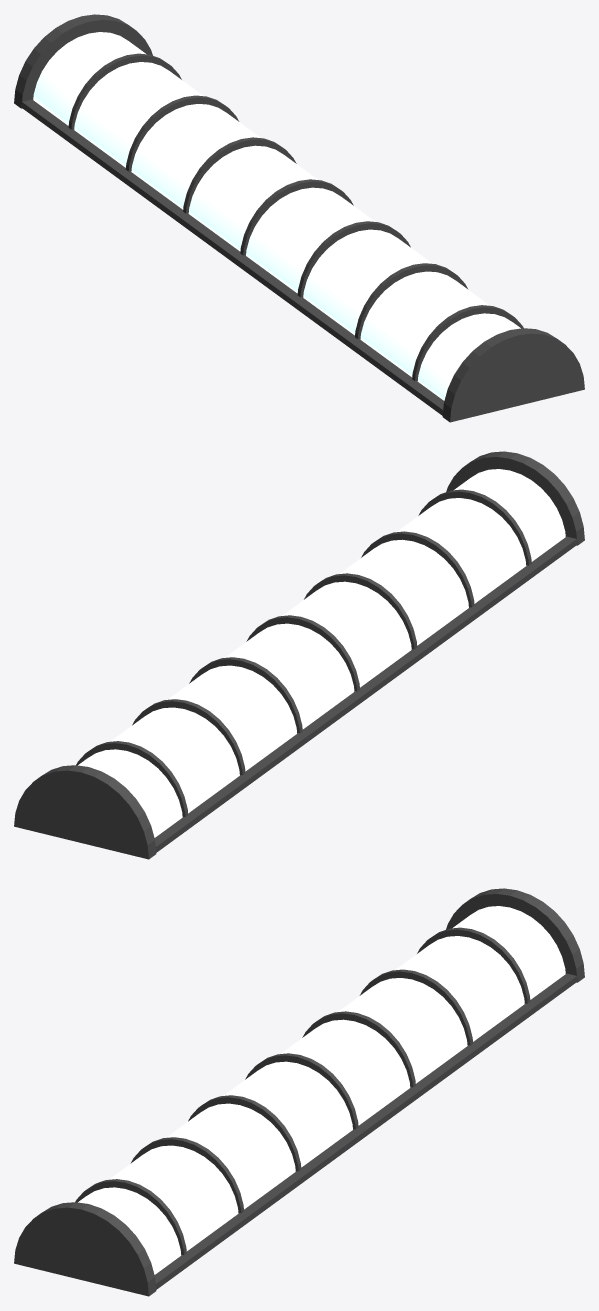
The model's file is lamp.glb.
3 views of the same model, one above another, from view 1: azimuth 30°, elevation 25°; view 2: azimuth 150°, elevation 25°; view 3: azimuth 330°, elevation 25° (orthographic).
Parts seen in each view (by area): view 1: Cylinder, Cube.002, Cylinder.001, Cylinder.002; view 2: Cylinder, Cube.002, Cylinder.002, Cylinder.001; view 3: Cylinder, Cube.002, Cylinder.001, Cylinder.002.
Part boxes in pixels (x1,y1,x2,y2): Cylinder: (33,32,520,400); Cube.002: (22,53,523,415); Cylinder.001: (442,328,584,422); Cylinder.002: (14,14,152,108); Cylinder: (78,469,565,837); Cube.002: (76,489,576,852); Cylinder.002: (14,765,156,859); Cylinder.001: (446,451,584,545); Cylinder: (78,906,565,1274); Cube.002: (75,927,576,1289); Cylinder.001: (14,1202,156,1296); Cylinder.002: (446,888,584,982).
Bounding box in the file's own units: 2.4 × 1.2 × 13.43.
